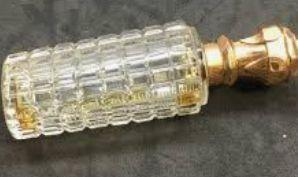glass: (0, 9, 298, 142)
